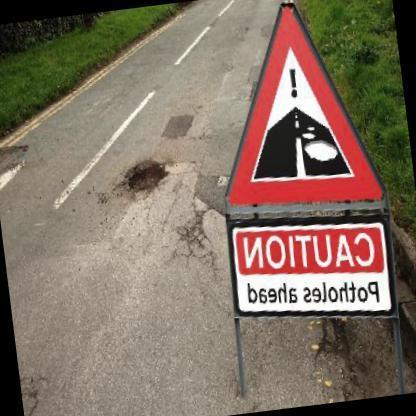pothole: (119, 158, 173, 198)
